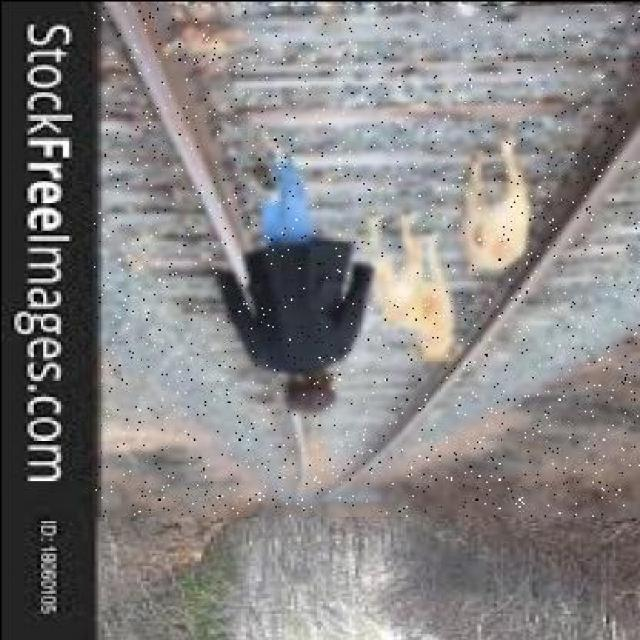danger: (228, 138, 366, 406), (432, 113, 534, 284), (366, 214, 451, 362)
rail: (92, 6, 639, 514)
